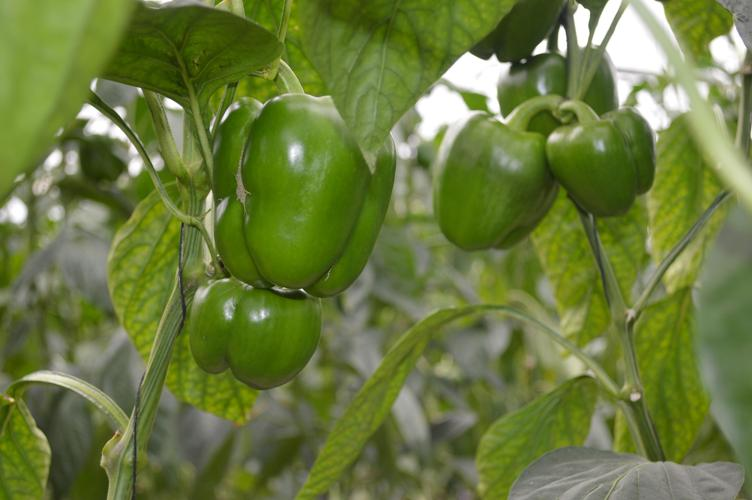BellPepper: (208, 80, 400, 304), (423, 108, 556, 285), (174, 268, 332, 399), (550, 86, 663, 228)
